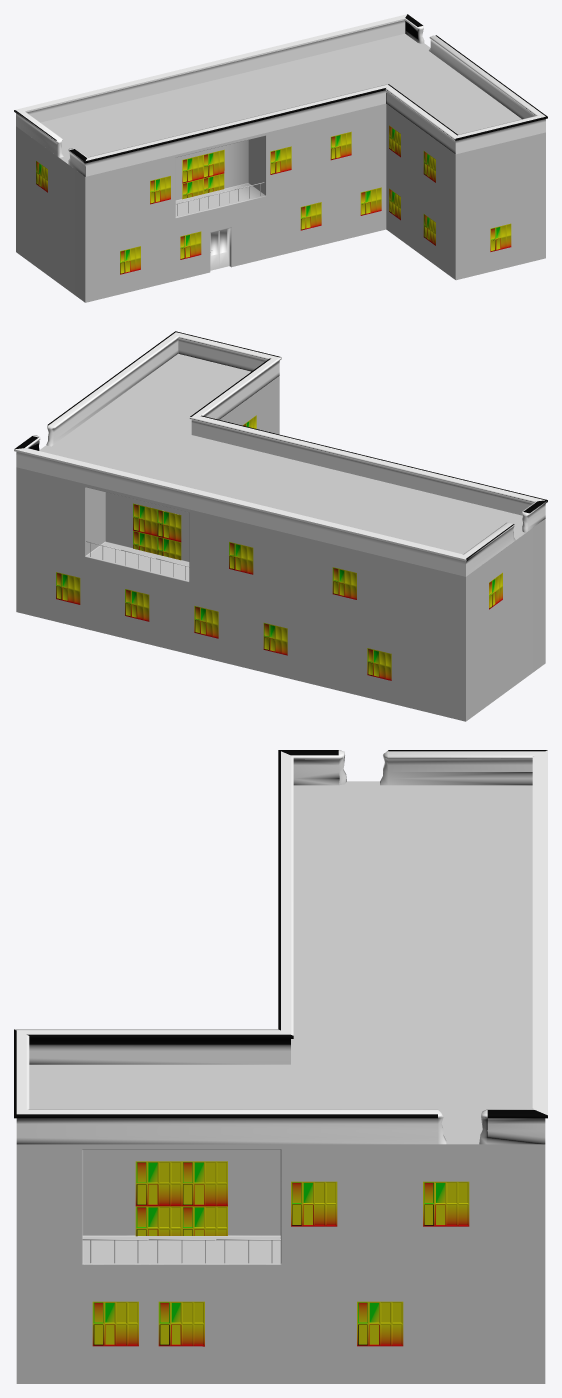
The model's file is building_L.fbx.
3 renders of one model, top to bottom at view 1: azimuth 30°, elevation 25°; view 2: azimuth 150°, elevation 25°; view 3: azimuth 270°, elevation 25°, orthographic. The views are drawn at different scales.
Visible parts, largest first — view 1: L_Bulding_front, Object170, L_Building_Left, Top_Wall_Front, Top_Wall_Back, Object182, Top_Wall_Left, Top_Wall_Right, Object190, door_lp; view 2: L_Bulding_back, Object170, L_Building_Left, Top_Wall_Back, Top_Wall_Front, Object197, Top_Wall_Left, Top_Wall_Right, Object190; view 3: L_Building_right, Object170, finestra_v3_lp007, Top_Wall_Right, Top_Wall_Left, Top_Wall_Front, Top_Wall_Back, railing_01_LP002.
Boxes of the visible parts, x1,y1,x2,y2 form: L_Bulding_front: [85, 103, 545, 302]; Object170: [41, 33, 521, 163]; L_Building_Left: [16, 104, 455, 302]; Top_Wall_Front: [85, 84, 547, 176]; Top_Wall_Back: [14, 14, 407, 122]; Object182: [120, 131, 511, 274]; Top_Wall_Left: [14, 84, 457, 176]; Top_Wall_Right: [404, 14, 547, 119]; Object190: [36, 125, 435, 245]; door_lp: [210, 228, 229, 270]; L_Bulding_back: [16, 467, 465, 721]; Object170: [39, 353, 525, 554]; L_Building_Left: [219, 376, 545, 721]; Top_Wall_Back: [14, 448, 466, 576]; Top_Wall_Front: [175, 331, 547, 515]; Object197: [56, 503, 391, 680]; Top_Wall_Left: [190, 357, 547, 576]; Top_Wall_Right: [14, 331, 178, 450]; Object190: [243, 415, 502, 609]; L_Building_right: [16, 1144, 545, 1383]; Object170: [29, 781, 532, 1144]; finestra_v3_lp007: [92, 1161, 469, 1346]; Top_Wall_Right: [14, 1109, 547, 1144]; Top_Wall_Left: [14, 750, 547, 1064]; Top_Wall_Front: [14, 750, 293, 1115]; Top_Wall_Back: [532, 750, 547, 1115]; railing_01_LP002: [82, 1239, 280, 1263].
Bounding box in the file's own units: 26.16 × 9.01 × 16.16.
